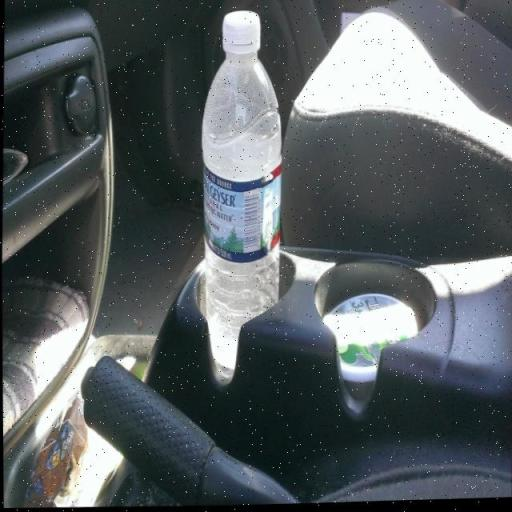plastic: (201, 12, 281, 372)
